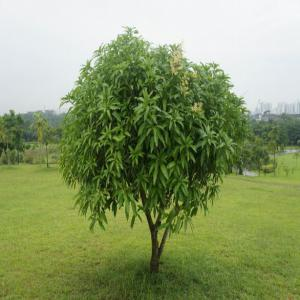Tree: (59, 21, 250, 270)
